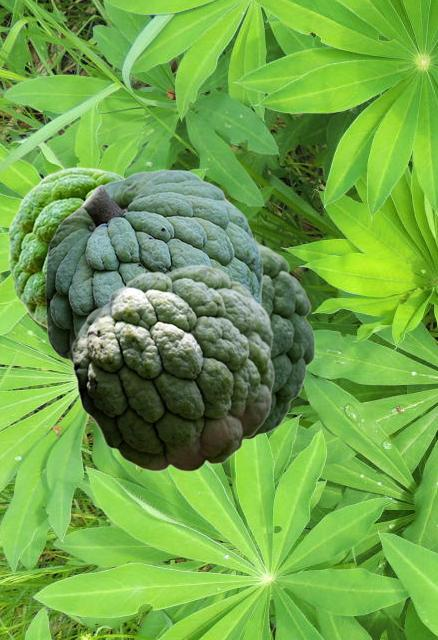atis: (45, 169, 262, 363), (71, 264, 274, 471), (8, 166, 124, 330), (244, 237, 314, 441)
